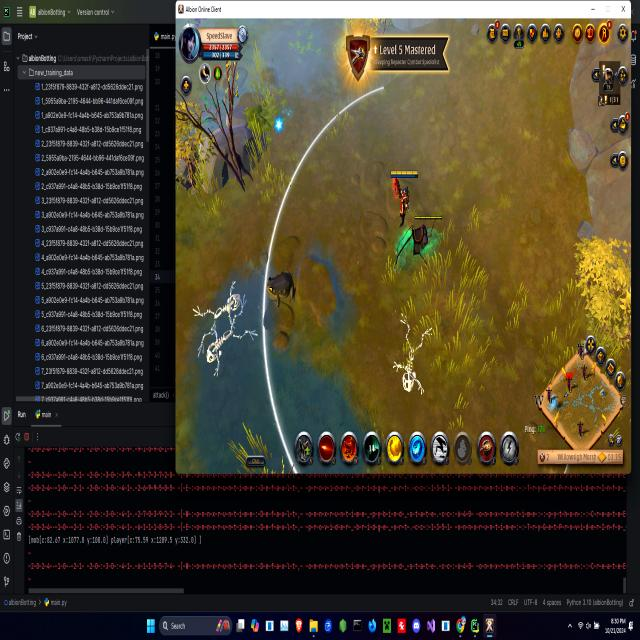ore: (266, 266, 303, 309)
red: (387, 166, 418, 235)
